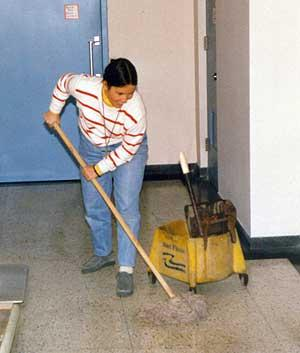person: (45, 58, 147, 299)
